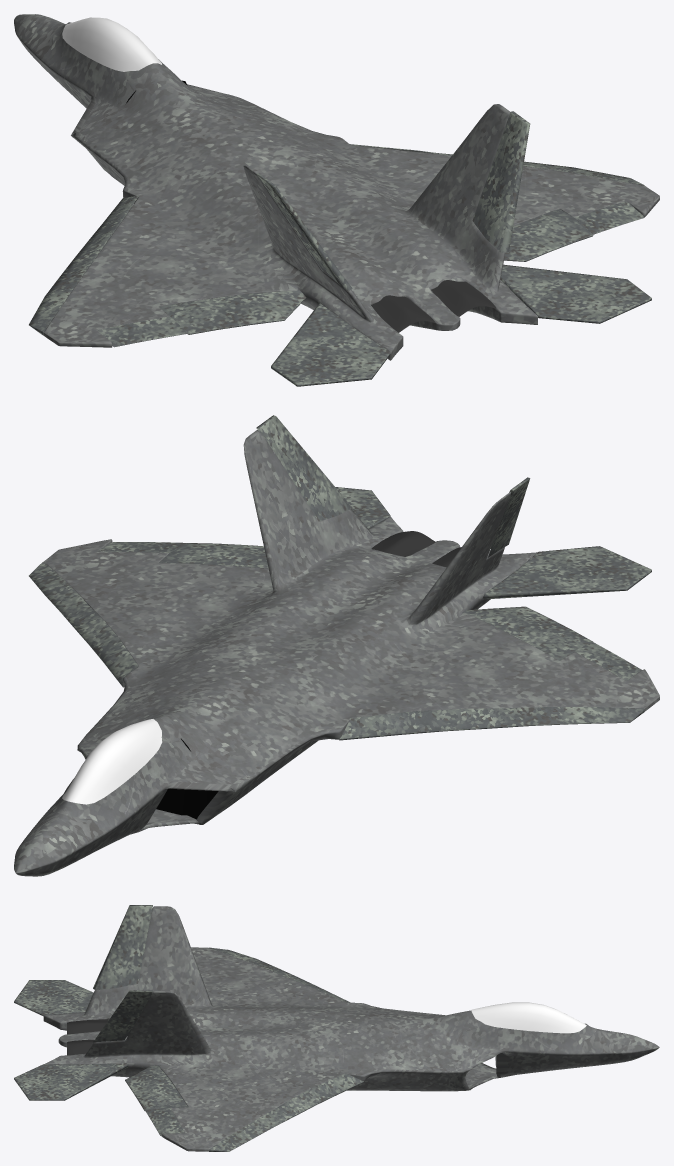
The picture shows the model from 3 angles, top to bottom: view 1: azimuth 30°, elevation 25°; view 2: azimuth 150°, elevation 25°; view 3: azimuth 270°, elevation 25°; orthographic projection. The views are drawn at different scales.
Visible parts, largest first — view 1: model; view 2: model; view 3: model.
Part boxes in pixels (x1,y1,x2,y2): model: (14, 14, 659, 386); model: (14, 415, 659, 876); model: (14, 905, 659, 1151).
Size of the model in its own units: 13.98 by 4.11 by 18.92.
Materials: 8 (2 with a texture image).
